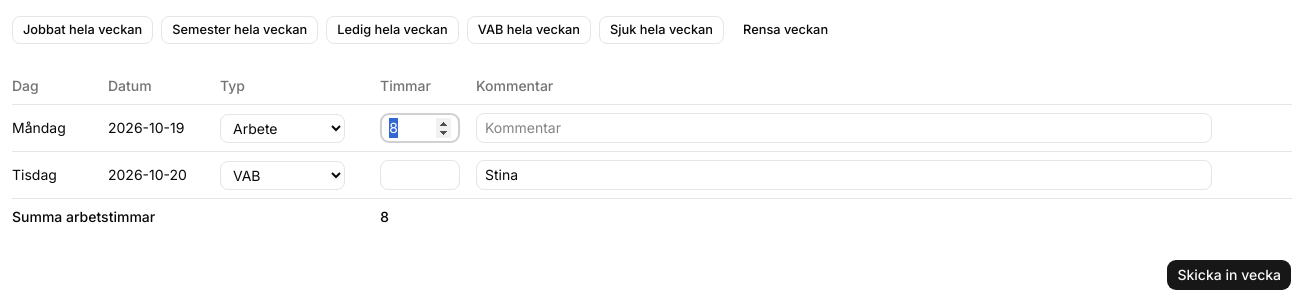
Scenario: WeekGrid › selects the note on focus so typing replaces it
Step 1. Click the field named "Kommentar 2026-10-20" → (844, 175), box [476,160,1212,190]
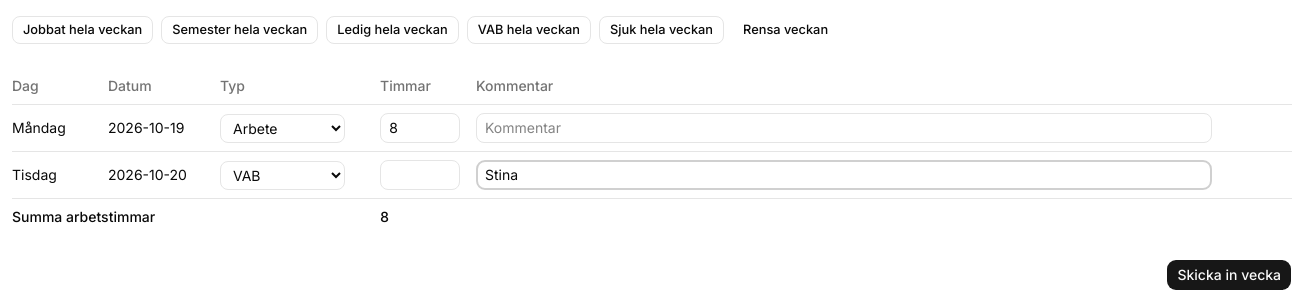
Step 2. Type keys "Olle"
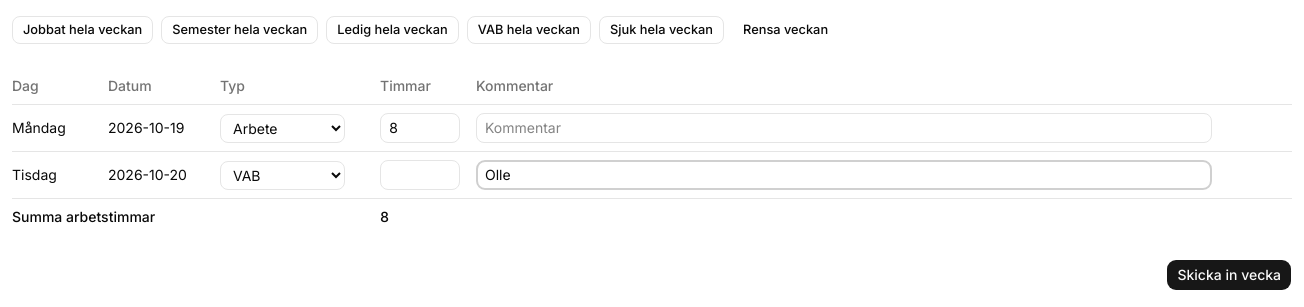
Now the field named "Kommentar 2026-10-20" holds "Olle", box [476,160,1212,190]
